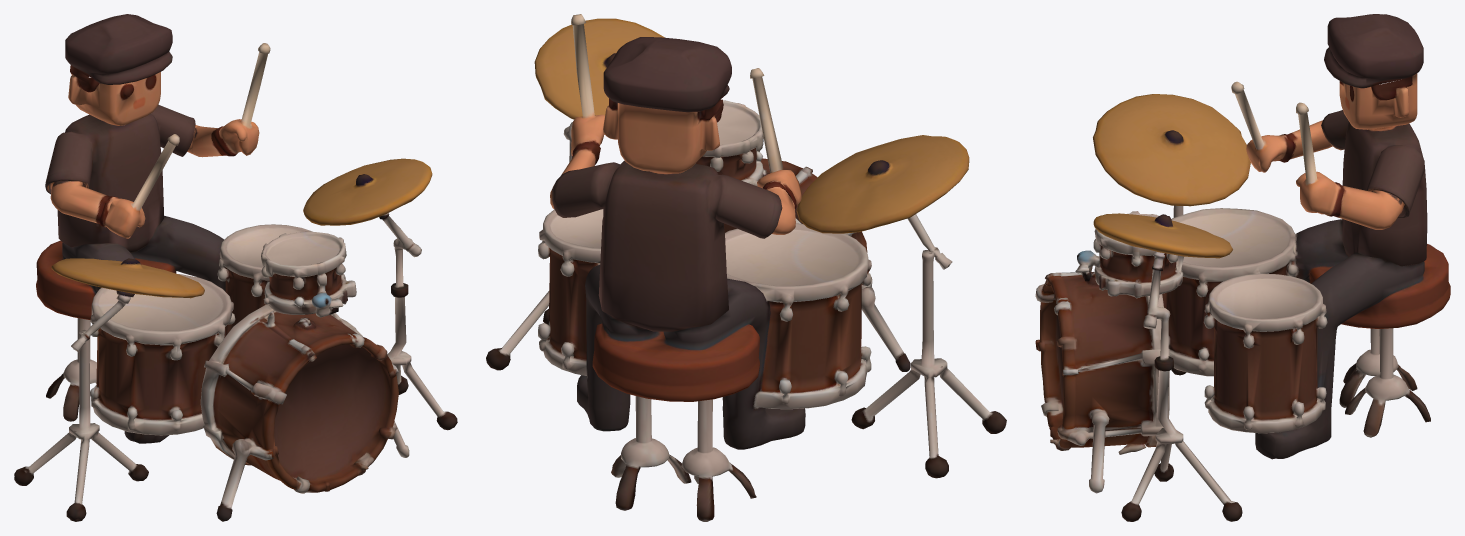
File: drummer.glb
3 views of the same model, side by side, from view 1: azimuth 30°, elevation 25°; view 2: azimuth 150°, elevation 25°; view 3: azimuth 270°, elevation 25° (orthographic). The views are drawn at different scales.
Parts seen in each view (by area): view 1: tripo_node_cccd8a4a-32a5-4562-89a7-3315eee081af; view 2: tripo_node_cccd8a4a-32a5-4562-89a7-3315eee081af; view 3: tripo_node_cccd8a4a-32a5-4562-89a7-3315eee081af.
Part boxes in pixels (x1,y1,x2,y2): tripo_node_cccd8a4a-32a5-4562-89a7-3315eee081af: (14,14,457,521); tripo_node_cccd8a4a-32a5-4562-89a7-3315eee081af: (486,14,1006,521); tripo_node_cccd8a4a-32a5-4562-89a7-3315eee081af: (1035,14,1450,521).
Bounding box in the file's own units: 0.9773 × 0.9008 × 0.8587.
Materials: 1 (1 with a texture image).
